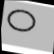no answer: (2, 4, 40, 36)
